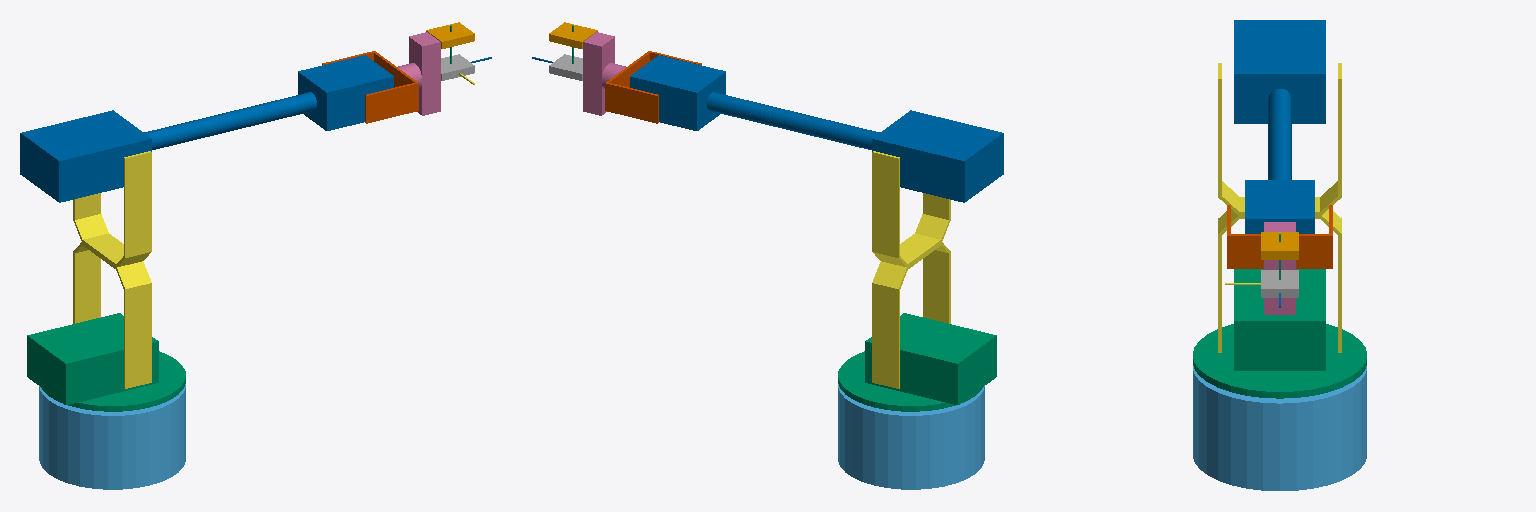
--- What the picture shows (computed from the rendered views, not written in the file) ---
Views: 3 orthographic renders of the robot side by side, from view 1: azimuth 30°, elevation 25°; view 2: azimuth 150°, elevation 25°; view 3: azimuth 270°, elevation 25°.
Robot: al5d — 13 links, 12 joints (5 revolute, 2 prismatic, 5 fixed); root link world; default pose: every joint at zero.
Visible links, largest first — view 1: lower_arm, base, upper_arm, upper_base, gripper_base, wrist, gripper_leftfinger, gripper_rightfinger; view 2: lower_arm, base, upper_arm, upper_base, gripper_base, wrist, gripper_leftfinger, gripper_rightfinger; view 3: base, lower_arm, upper_base, upper_arm, wrist, gripper_base, gripper_leftfinger, gripper_rightfinger.
Link boxes in pixels (x1,y1,x2,y2): lower_arm: (20,55,393,202); base: (39,384,185,489); upper_arm: (73,151,151,388); upper_base: (27,313,185,411); gripper_base: (398,32,440,115); wrist: (322,51,418,123); gripper_leftfinger: (426,22,474,48); gripper_rightfinger: (441,54,474,80); lower_arm: (630,55,1003,202); base: (838,384,984,489); upper_arm: (872,151,950,388); upper_base: (838,313,996,411); gripper_base: (583,32,625,115); wrist: (605,51,701,123); gripper_leftfinger: (549,22,597,48); gripper_rightfinger: (549,54,582,80); base: (1193,366,1366,490); lower_arm: (1234,20,1325,233); upper_base: (1193,269,1366,398); upper_arm: (1218,63,1341,352); wrist: (1227,205,1332,268); gripper_base: (1264,222,1295,314); gripper_leftfinger: (1261,232,1298,259); gripper_rightfinger: (1261,270,1298,297).
Bounding box of the posed robot: 0.3401 × 0.096 × 0.2523 m (x, y, z).
Meshes: 2 distinct files referenced, 2 mesh visuals loaded (2 binary STL).

URDF robot description (al5d):
<?xml version="1.0" ?>
<!-- =================================================================================== -->
<!-- |    This document was autogenerated by xacro from al5d_cad.xacro                 | -->
<!-- |    EDITING THIS FILE BY HAND IS NOT RECOMMENDED                                 | -->
<!-- =================================================================================== -->
<robot name="al5d">
  <!-- transmissions are required by the controller manager (here: for simulation in gazebo) -->
  <transmission name="base_rotate_trans">
    <type>transmission_interface/SimpleTransmission</type>
    <joint name="base_rotate">
      <hardwareInterface>hardware_interface/EffortJointInterface</hardwareInterface>
    </joint>
    <actuator name="base_rotate_motor">
      <hardwareInterface>hardware_interface/EffortJointInterface</hardwareInterface>
      <mechanicalReduction>1</mechanicalReduction>
    </actuator>
  </transmission>
  <transmission name="shoulder_tilt_trans">
    <type>transmission_interface/SimpleTransmission</type>
    <joint name="shoulder_tilt">
      <hardwareInterface>hardware_interface/EffortJointInterface</hardwareInterface>
    </joint>
    <actuator name="shoulder_tilt_motor">
      <hardwareInterface>hardware_interface/EffortJointInterface</hardwareInterface>
      <mechanicalReduction>1</mechanicalReduction>
    </actuator>
  </transmission>
  <transmission name="elbow_tilt_trans">
    <type>transmission_interface/SimpleTransmission</type>
    <joint name="elbow_tilt">
      <hardwareInterface>hardware_interface/EffortJointInterface</hardwareInterface>
    </joint>
    <actuator name="elbow_tilt_motor">
      <hardwareInterface>hardware_interface/EffortJointInterface</hardwareInterface>
      <mechanicalReduction>1</mechanicalReduction>
    </actuator>
  </transmission>
  <transmission name="wrist_tilt_trans">
    <type>transmission_interface/SimpleTransmission</type>
    <joint name="wrist_tilt">
      <hardwareInterface>hardware_interface/EffortJointInterface</hardwareInterface>
    </joint>
    <actuator name="wrist_tilt_motor">
      <hardwareInterface>hardware_interface/EffortJointInterface</hardwareInterface>
      <mechanicalReduction>1</mechanicalReduction>
    </actuator>
  </transmission>
  <transmission name="wrist_rotate_trans">
    <type>transmission_interface/SimpleTransmission</type>
    <joint name="wrist_rotate">
      <hardwareInterface>hardware_interface/EffortJointInterface</hardwareInterface>
    </joint>
    <actuator name="wrist_rotate_motor">
      <hardwareInterface>hardware_interface/EffortJointInterface</hardwareInterface>
      <mechanicalReduction>1</mechanicalReduction>
    </actuator>
  </transmission>
  <transmission name="open_gripperright_trans">
    <type>transmission_interface/SimpleTransmission</type>
    <joint name="open_gripperright">
      <hardwareInterface>hardware_interface/EffortJointInterface</hardwareInterface>
    </joint>
    <actuator name="open_gripperright_motor">
      <hardwareInterface>hardware_interface/EffortJointInterface</hardwareInterface>
      <mechanicalReduction>1</mechanicalReduction>
    </actuator>
  </transmission>
  <transmission name="open_gripperleft_trans">
    <type>transmission_interface/SimpleTransmission</type>
    <joint name="open_gripperleft">
      <hardwareInterface>hardware_interface/EffortJointInterface</hardwareInterface>
    </joint>
    <actuator name="open_gripperleft_motor">
      <hardwareInterface>hardware_interface/EffortJointInterface</hardwareInterface>
      <mechanicalReduction>1</mechanicalReduction>
    </actuator>
  </transmission>
  <link name="world"/>
  <link name="base">
    <visual>
      <origin rpy="0 0 0" xyz="0 0 0.0266"/>
      <geometry>
        <cylinder length=".0532" radius="0.048"/>
      </geometry>
    </visual>
    <collision>
      <origin rpy="0 0 0" xyz="0 0 0.0266"/>
      <geometry>
        <cylinder length=".0532" radius="0.048"/>
      </geometry>
    </collision>
    <inertial>
      <mass value="0.3"/>
      <inertia ixx="0.001" ixy="0.0" ixz="0.0" iyy="0.001" iyz="0.0" izz="0.001"/>
    </inertial>
  </link>
  <link name="upper_base">
    <visual>
      <origin rpy="0 0 0" xyz="0 0 .0582"/>
      <geometry>
        <cylinder length=".004" radius="0.048"/>
      </geometry>
    </visual>
    <visual>
      <origin rpy="0 0 0" xyz="-.01487 0 .0752"/>
      <geometry>
        <box size=".06985 .0508 .030"/>
      </geometry>
    </visual>
    <collision>
      <origin rpy="0 0 0" xyz="0 0 .0582"/>
      <geometry>
        <cylinder length=".004" radius="0.048"/>
      </geometry>
    </collision>
    <collision>
      <origin rpy="0 0 0" xyz="-.01487 0 .0752"/>
      <geometry>
        <box size=".06985 .0508 .030"/>
      </geometry>
    </collision>
    <inertial>
      <mass value="0.3"/>
      <inertia ixx="0.001" ixy="0.0" ixz="0.0" iyy="0.001" iyz="0.0" izz="0.001"/>
    </inertial>
  </link>
  <link name="upper_arm">
    <visual>
      <geometry>
        <mesh filename="package://al5d_description/mesh/upper_arm/UpperArm - Bracket-1.STL"/>
      </geometry>
    </visual>
    <visual>
      <geometry>
        <mesh filename="package://al5d_description/mesh/upper_arm/UpperArm - Bracket-2.STL"/>
      </geometry>
    </visual>
    <collision>
      <origin rpy="0 0 0" xyz="0.073025 0 0"/>
      <geometry>
        <box size=".02 .020 .068"/>
      </geometry>
    </collision>
    <collision>
      <origin rpy="0 0 0" xyz="0.073025 0 .033"/>
      <geometry>
        <box size=".166 .020 .002"/>
      </geometry>
    </collision>
    <collision>
      <origin rpy="0 0 0" xyz="0.073025 0 -.033"/>
      <geometry>
        <box size=".166 .020 .002"/>
      </geometry>
    </collision>
    <inertial>
      <mass value="0.3"/>
      <inertia ixx="0.001" ixy="0.0" ixz="0.0" iyy="0.001" iyz="0.0" izz="0.001"/>
    </inertial>
  </link>
  <link name="lower_arm">
    <visual>
      <origin rpy="0 1.57079 0" xyz="0.0936625 0 0"/>
      <geometry>
        <cylinder length="0.187325" radius=".00635"/>
      </geometry>
    </visual>
    <visual>
      <origin rpy="0 0 0" xyz="-.01982 0 0"/>
      <geometry>
        <box size=".06985 .030 .0508"/>
      </geometry>
    </visual>
    <visual>
      <origin rpy="0 0 0" xyz=".1759 0 0"/>
      <geometry>
        <box size=".0508 .0279 .0381"/>
      </geometry>
    </visual>
    <collision>
      <origin rpy="0 1.57079 0" xyz="0.0936625 0 0"/>
      <geometry>
        <cylinder length="0.187325" radius=".00635"/>
      </geometry>
    </collision>
    <collision>
      <origin rpy="0 0 0" xyz="-.01982 0 0"/>
      <geometry>
        <box size=".06985 .030 .0508"/>
      </geometry>
    </collision>
    <collision>
      <origin rpy="0 0 0" xyz=".1759 0 0"/>
      <geometry>
        <box size=".0508 .0279 .0381"/>
      </geometry>
    </collision>
    <inertial>
      <mass value="0.3"/>
      <inertia ixx="0.001" ixy="0.0" ixz="0.0" iyy="0.001" iyz="0.0" izz="0.001"/>
    </inertial>
  </link>
  <link name="wrist">
    <visual>
      <origin rpy="0 0 0" xyz=".026 0 0"/>
      <geometry>
        <box size=".002 .020 .05788"/>
      </geometry>
    </visual>
    <visual>
      <origin rpy="0 0 0" xyz="0.006150000000000003 0 0.02794"/>
      <geometry>
        <box size="0.0377 .020 .002"/>
      </geometry>
    </visual>
    <visual>
      <origin rpy="0 0 0" xyz="0.006150000000000003 0 -0.02794"/>
      <geometry>
        <box size="0.0377 .020 .002"/>
      </geometry>
    </visual>
    <collision>
      <origin rpy="0 0 0" xyz=".026 0 0"/>
      <geometry>
        <box size=".002 .020 .05788"/>
      </geometry>
    </collision>
    <collision>
      <origin rpy="0 0 0" xyz="0.006150000000000003 0 0.02794"/>
      <geometry>
        <box size="0.0377 .020 .002"/>
      </geometry>
    </collision>
    <collision>
      <origin rpy="0 0 0" xyz="0.006150000000000003 0 -0.02794"/>
      <geometry>
        <box size="0.0377 .020 .002"/>
      </geometry>
    </collision>
    <inertial>
      <mass value="0.3"/>
      <inertia ixx="0.001" ixy="0.0" ixz="0.0" iyy="0.001" iyz="0.0" izz="0.001"/>
    </inertial>
  </link>
  <link name="gripper_base">
    <visual>
      <origin rpy="0 0 0" xyz=".014 0 0"/>
      <geometry>
        <box size=".014 .018 .05"/>
      </geometry>
    </visual>
    <visual>
      <origin rpy="0 1.570795 0" xyz="0 0 0"/>
      <geometry>
        <cylinder length=".014" radius=".009"/>
      </geometry>
    </visual>
    <collision>
      <origin rpy="0 0 0" xyz=".014 0 0"/>
      <geometry>
        <box size=".014 .018 .05"/>
      </geometry>
    </collision>
    <collision>
      <origin rpy="0 1.570795 0" xyz="0 0 0"/>
      <geometry>
        <!-- shorter to avoid numerical issues -->
        <cylinder length=".013" radius=".009"/>
      </geometry>
    </collision>
    <inertial>
      <mass value="0.3"/>
      <inertia ixx="0.001" ixy="0.0" ixz="0.0" iyy="0.001" iyz="0.0" izz="0.001"/>
    </inertial>
  </link>
  <link name="gripper_rightfinger">
    <visual>
      <origin rpy="0 0 0" xyz="0.0125 0 0"/>
      <geometry>
        <box size="0.025 0.021 0.00525"/>
      </geometry>
    </visual>
    <!-- <visual>
        <origin xyz="${gripper_width/2} 0 0" rpy="0 0 0"/>
        <geometry>
		      <box size="${gripper_width} ${gripper_height} ${gripper_height}"/>
        </geometry>
      </visual> -->
    <collision>
      <origin rpy="0 0 0" xyz="0.0125 0 0"/>
      <geometry>
        <box size="0.025 0.021 0.00525"/>
      </geometry>
      <surface>
        <friction>
          <ode>
            <mu>1.0</mu>
            <mu2>1.0</mu2>
          </ode>
        </friction>
      </surface>
    </collision>
    <inertial>
      <mass value="0.05"/>
      <inertia ixx="0.0001" ixy="0.0" ixz="0.0" iyy="0.0001" iyz="0.0" izz="0.0001"/>
    </inertial>
  </link>
  <link name="gripper_leftfinger">
    <visual>
      <origin rpy="0 0 0" xyz="0.0125 0 0"/>
      <geometry>
        <box size="0.025 0.021 0.00525"/>
      </geometry>
    </visual>
    <collision>
      <origin rpy="0 0 0" xyz="0.0125 0 0"/>
      <geometry>
        <box size="0.025 0.021 0.00525"/>
      </geometry>
      <surface>
        <friction>
          <ode>
            <mu>0.7</mu>
            <mu2>0.7</mu2>
          </ode>
        </friction>
      </surface>
    </collision>
    <inertial>
      <mass value="0.05"/>
      <inertia ixx="0.0001" ixy="0.0" ixz="0.0" iyy="0.0001" iyz="0.0" izz="0.0001"/>
    </inertial>
  </link>
  <link name="end"/>
  <link name="xaxis">
    <visual>
      <origin rpy="0 0 0" xyz="0.015 0 0"/>
      <geometry>
        <box size="0.03 0.001 0.001"/>
      </geometry>
    </visual>
  </link>
  <link name="yaxis">
    <visual>
      <origin rpy="0 0 0" xyz="0 0.015 0"/>
      <geometry>
        <box size="0.001 0.03 0.001"/>
      </geometry>
    </visual>
  </link>
  <link name="zaxis">
    <visual>
      <origin rpy="0 0 0" xyz="0 0 0.015"/>
      <geometry>
        <box size="0.001 0.001 0.03"/>
      </geometry>
    </visual>
  </link>
  <!-- joints -->
  <joint name="base_joint" type="fixed">
    <origin rpy="0 0 0" xyz="0 0 0"/>
    <parent link="world"/>
    <child link="base"/>
  </joint>
  <joint name="base_rotate" type="revolute">
    <origin rpy="0 0 0" xyz="0 0 0"/>
    <parent link="base"/>
    <child link="upper_base"/>
    <axis xyz="0 0 1"/>
    <limit effort="10" lower="-1.4" upper="1.4" velocity="3.67"/>
  </joint>
  <joint name="shoulder_tilt" type="revolute">
    <origin rpy="1.570795 -1.570795 0 " xyz="0 0 0.0762"/>
    <parent link="upper_base"/>
    <child link="upper_arm"/>
    <axis xyz="0 0 -1"/>
    <limit effort="10" lower="-1.2" upper="1.4" velocity="3.32"/>
  </joint>
  <joint name="elbow_tilt" type="revolute">
    <origin rpy="0 0 -1.570795" xyz="0.14605 0 0"/>
    <parent link="upper_arm"/>
    <child link="lower_arm"/>
    <axis xyz="0 0 -1"/>
    <limit effort="10" lower="-1.8" upper="1.7" velocity="3.67"/>
  </joint>
  <joint name="wrist_tilt" type="revolute">
    <origin rpy="0 0 0" xyz="0.187325 0 0"/>
    <parent link="lower_arm"/>
    <child link="wrist"/>
    <axis xyz="0 0 -1"/>
    <limit effort="10" lower="-1.9" upper="1.7" velocity="6.98"/>
  </joint>
  <joint name="wrist_rotate" type="revolute">
    <origin rpy="1.570795 0 0" xyz="0.034 0 0"/>
    <parent link="wrist"/>
    <child link="gripper_base"/>
    <axis xyz="1 0 0"/>
    <limit effort="10" lower="-2" upper="1.5" velocity="6.98"/>
  </joint>
  <joint name="open_gripperright" type="prismatic">
    <origin rpy="0 0 0" xyz="0.021 0 0.023"/>
    <origin rpy="0 0 0" xyz="0.021 0 0"/>
    <parent link="gripper_base"/>
    <child link="gripper_rightfinger"/>
    <axis xyz="0 0 1"/>
    <limit effort="100" lower="-0.03" upper="0.0" velocity="6.98"/>
  </joint>
  <joint name="open_gripperleft" type="prismatic">
    <origin rpy="0 0 0" xyz="0.021 0 -0.023"/>
    <parent link="gripper_base"/>
    <child link="gripper_leftfinger"/>
    <axis xyz="0 0 1"/>
    <limit effort="100" lower="0" upper="0.03" velocity="6.98"/>
  </joint>
  <joint name="end" type="fixed">
    <origin rpy="0 1.570795 0" xyz="0.034 0 0"/>
    <parent link="gripper_base"/>
    <child link="end"/>
  </joint>
  <joint name="axis1" type="fixed">
    <origin rpy="0 0 0" xyz="0 0 0"/>
    <parent link="end"/>
    <child link="xaxis"/>
  </joint>
  <joint name="axis2" type="fixed">
    <origin rpy="0 0 0" xyz="0 0 0"/>
    <parent link="end"/>
    <child link="yaxis"/>
  </joint>
  <joint name="axis3" type="fixed">
    <origin rpy="0 0 0" xyz="0 0 0"/>
    <parent link="end"/>
    <child link="zaxis"/>
  </joint>
  <gazebo>
    <plugin filename="libgazebo_ros_control.so" name="gazebo_ros_control">
      <robotSimType>gazebo_ros_control/DefaultRobotHWSim</robotSimType>
    </plugin>
  </gazebo>
  <gazebo reference="base">
    <material>Gazebo/DarkGrey</material>
    <self_collide>1</self_collide>
    <!-- <gazebo reference="${frame}"> -->
    <sensor name="base_collision_contact" type="contact">
      <update_rate>10.0</update_rate>
      <always_on>1</always_on>
      <contact>
        <collision>base_collision</collision>
      </contact>
      <plugin filename="libgazebo_ros_bumper.so" name="gazebo_ros_bumper_controller">
        <alwaysOn>true</alwaysOn>
        <updateRate>10.0</updateRate>
        <bumperTopicName>/collision</bumperTopicName>
        <frameName>base</frameName>
      </plugin>
    </sensor>
    <!-- </gazebo> -->
  </gazebo>
  <gazebo reference="upper_base">
    <material>Gazebo/LightGrey</material>
    <self_collide>1</self_collide>
    <!-- <gazebo reference="${frame}"> -->
    <sensor name="upper_base_collision_contact" type="contact">
      <update_rate>10.0</update_rate>
      <always_on>1</always_on>
      <contact>
        <collision>upper_base_collision</collision>
      </contact>
      <plugin filename="libgazebo_ros_bumper.so" name="gazebo_ros_bumper_controller">
        <alwaysOn>true</alwaysOn>
        <updateRate>10.0</updateRate>
        <bumperTopicName>/collision</bumperTopicName>
        <frameName>upper_base</frameName>
      </plugin>
    </sensor>
    <!-- </gazebo> -->
    <!-- <gazebo reference="${frame}"> -->
    <sensor name="upper_base_collision_1_contact" type="contact">
      <update_rate>10.0</update_rate>
      <always_on>1</always_on>
      <contact>
        <collision>upper_base_collision_1</collision>
      </contact>
      <plugin filename="libgazebo_ros_bumper.so" name="gazebo_ros_bumper_controller">
        <alwaysOn>true</alwaysOn>
        <updateRate>10.0</updateRate>
        <bumperTopicName>/collision</bumperTopicName>
        <frameName>upper_base</frameName>
      </plugin>
    </sensor>
    <!-- </gazebo> -->
  </gazebo>
  <gazebo reference="upper_arm">
    <material>Gazebo/DarkGrey</material>
    <self_collide>1</self_collide>
    <!-- <gazebo reference="${frame}"> -->
    <sensor name="upper_arm_collision_contact" type="contact">
      <update_rate>10.0</update_rate>
      <always_on>1</always_on>
      <contact>
        <collision>upper_arm_collision</collision>
      </contact>
      <plugin filename="libgazebo_ros_bumper.so" name="gazebo_ros_bumper_controller">
        <alwaysOn>true</alwaysOn>
        <updateRate>10.0</updateRate>
        <bumperTopicName>/collision</bumperTopicName>
        <frameName>upper_arm</frameName>
      </plugin>
    </sensor>
    <!-- </gazebo> -->
    <!-- <gazebo reference="${frame}"> -->
    <sensor name="upper_arm_collision_1_contact" type="contact">
      <update_rate>10.0</update_rate>
      <always_on>1</always_on>
      <contact>
        <collision>upper_arm_collision_1</collision>
      </contact>
      <plugin filename="libgazebo_ros_bumper.so" name="gazebo_ros_bumper_controller">
        <alwaysOn>true</alwaysOn>
        <updateRate>10.0</updateRate>
        <bumperTopicName>/collision</bumperTopicName>
        <frameName>upper_arm</frameName>
      </plugin>
    </sensor>
    <!-- </gazebo> -->
    <!-- <gazebo reference="${frame}"> -->
    <sensor name="upper_arm_collision_2_contact" type="contact">
      <update_rate>10.0</update_rate>
      <always_on>1</always_on>
      <contact>
        <collision>upper_arm_collision_2</collision>
      </contact>
      <plugin filename="libgazebo_ros_bumper.so" name="gazebo_ros_bumper_controller">
        <alwaysOn>true</alwaysOn>
        <updateRate>10.0</updateRate>
        <bumperTopicName>/collision</bumperTopicName>
        <frameName>upper_arm</frameName>
      </plugin>
    </sensor>
    <!-- </gazebo> -->
  </gazebo>
  <gazebo reference="lower_arm">
    <material>Gazebo/LightGrey</material>
    <self_collide>1</self_collide>
    <!-- <gazebo reference="${frame}"> -->
    <sensor name="lower_arm_collision_contact" type="contact">
      <update_rate>10.0</update_rate>
      <always_on>1</always_on>
      <contact>
        <collision>lower_arm_collision</collision>
      </contact>
      <plugin filename="libgazebo_ros_bumper.so" name="gazebo_ros_bumper_controller">
        <alwaysOn>true</alwaysOn>
        <updateRate>10.0</updateRate>
        <bumperTopicName>/collision</bumperTopicName>
        <frameName>lower_arm</frameName>
      </plugin>
    </sensor>
    <!-- </gazebo> -->
    <!-- <gazebo reference="${frame}"> -->
    <sensor name="lower_arm_collision_1_contact" type="contact">
      <update_rate>10.0</update_rate>
      <always_on>1</always_on>
      <contact>
        <collision>lower_arm_collision_1</collision>
      </contact>
      <plugin filename="libgazebo_ros_bumper.so" name="gazebo_ros_bumper_controller">
        <alwaysOn>true</alwaysOn>
        <updateRate>10.0</updateRate>
        <bumperTopicName>/collision</bumperTopicName>
        <frameName>lower_arm</frameName>
      </plugin>
    </sensor>
    <!-- </gazebo> -->
    <!-- <gazebo reference="${frame}"> -->
    <sensor name="lower_arm_collision_2_contact" type="contact">
      <update_rate>10.0</update_rate>
      <always_on>1</always_on>
      <contact>
        <collision>lower_arm_collision_2</collision>
      </contact>
      <plugin filename="libgazebo_ros_bumper.so" name="gazebo_ros_bumper_controller">
        <alwaysOn>true</alwaysOn>
        <updateRate>10.0</updateRate>
        <bumperTopicName>/collision</bumperTopicName>
        <frameName>lower_arm</frameName>
      </plugin>
    </sensor>
    <!-- </gazebo> -->
  </gazebo>
  <gazebo reference="wrist">
    <material>Gazebo/DarkGrey</material>
    <self_collide>1</self_collide>
    <!-- <gazebo reference="${frame}"> -->
    <sensor name="wrist_collision_contact" type="contact">
      <update_rate>10.0</update_rate>
      <always_on>1</always_on>
      <contact>
        <collision>wrist_collision</collision>
      </contact>
      <plugin filename="libgazebo_ros_bumper.so" name="gazebo_ros_bumper_controller">
        <alwaysOn>true</alwaysOn>
        <updateRate>10.0</updateRate>
        <bumperTopicName>/collision</bumperTopicName>
        <frameName>wrist</frameName>
      </plugin>
    </sensor>
    <!-- </gazebo> -->
    <!-- <gazebo reference="${frame}"> -->
    <sensor name="wrist_collision_1_contact" type="contact">
      <update_rate>10.0</update_rate>
      <always_on>1</always_on>
      <contact>
        <collision>wrist_collision_1</collision>
      </contact>
      <plugin filename="libgazebo_ros_bumper.so" name="gazebo_ros_bumper_controller">
        <alwaysOn>true</alwaysOn>
        <updateRate>10.0</updateRate>
        <bumperTopicName>/collision</bumperTopicName>
        <frameName>wrist</frameName>
      </plugin>
    </sensor>
    <!-- </gazebo> -->
    <!-- <gazebo reference="${frame}"> -->
    <sensor name="wrist_collision_2_contact" type="contact">
      <update_rate>10.0</update_rate>
      <always_on>1</always_on>
      <contact>
        <collision>wrist_collision_2</collision>
      </contact>
      <plugin filename="libgazebo_ros_bumper.so" name="gazebo_ros_bumper_controller">
        <alwaysOn>true</alwaysOn>
        <updateRate>10.0</updateRate>
        <bumperTopicName>/collision</bumperTopicName>
        <frameName>wrist</frameName>
      </plugin>
    </sensor>
    <!-- </gazebo> -->
  </gazebo>
  <gazebo reference="gripper_base">
    <material>Gazebo/LightGrey</material>
    <!-- <gazebo reference="${frame}"> -->
    <sensor name="gripper_base_collision_contact" type="contact">
      <update_rate>10.0</update_rate>
      <always_on>1</always_on>
      <contact>
        <collision>gripper_base_collision</collision>
      </contact>
      <plugin filename="libgazebo_ros_bumper.so" name="gazebo_ros_bumper_controller">
        <alwaysOn>true</alwaysOn>
        <updateRate>10.0</updateRate>
        <bumperTopicName>/collision</bumperTopicName>
        <frameName>gripper_base</frameName>
      </plugin>
    </sensor>
    <!-- </gazebo> -->
    <!-- <gazebo reference="${frame}"> -->
    <sensor name="gripper_base_collision_1_contact" type="contact">
      <update_rate>10.0</update_rate>
      <always_on>1</always_on>
      <contact>
        <collision>gripper_base_collision_1</collision>
      </contact>
      <plugin filename="libgazebo_ros_bumper.so" name="gazebo_ros_bumper_controller">
        <alwaysOn>true</alwaysOn>
        <updateRate>10.0</updateRate>
        <bumperTopicName>/collision</bumperTopicName>
        <frameName>gripper_base</frameName>
      </plugin>
    </sensor>
    <!-- </gazebo> -->
  </gazebo>
  <gazebo reference="gripper_leftfinger">
    <material>Gazebo/DarkGrey</material>
    <self_collide>1</self_collide>
    <turnGravityOff>true</turnGravityOff>
    <!-- <gazebo reference="${frame}"> -->
    <sensor name="gripper_leftfinger_collision_contact" type="contact">
      <update_rate>10.0</update_rate>
      <always_on>1</always_on>
      <contact>
        <collision>gripper_leftfinger_collision</collision>
      </contact>
      <plugin filename="libgazebo_ros_bumper.so" name="gazebo_ros_bumper_controller">
        <alwaysOn>true</alwaysOn>
        <updateRate>10.0</updateRate>
        <bumperTopicName>/collision</bumperTopicName>
        <frameName>gripper_leftfinger</frameName>
      </plugin>
    </sensor>
    <!-- </gazebo> -->
  </gazebo>
  <gazebo reference="gripper_rightfinger">
    <material>Gazebo/DarkGrey</material>
    <self_collide>1</self_collide>
    <turnGravityOff>true</turnGravityOff>
    <!-- <gazebo reference="${frame}"> -->
    <sensor name="gripper_rightfinger_collision_contact" type="contact">
      <update_rate>10.0</update_rate>
      <always_on>1</always_on>
      <contact>
        <collision>gripper_rightfinger_collision</collision>
      </contact>
      <plugin filename="libgazebo_ros_bumper.so" name="gazebo_ros_bumper_controller">
        <alwaysOn>true</alwaysOn>
        <updateRate>10.0</updateRate>
        <bumperTopicName>/collision</bumperTopicName>
        <frameName>gripper_rightfinger</frameName>
      </plugin>
    </sensor>
    <!-- </gazebo> -->
  </gazebo>
  <gazebo reference="end">
  </gazebo>
  <gazebo reference="xaxis">
    <material>Gazebo/RedTransparentOverlay</material>
  </gazebo>
  <gazebo reference="yaxis">
    <material>Gazebo/GreenTransparentOverlay</material>
  </gazebo>
  <gazebo reference="zaxis">
    <material>Gazebo/BlueTransparentOverlay</material>
  </gazebo>
  <!-- TO GET NAMES OF COLLISION: -->
  <!-- rosrun xacro xacro al5d_cad.xacro > temp.urdf -->
  <!-- gz sdf -p temp.urdf > temp.sdf -->
  <!-- Check names in temp.sdf -->
</robot>
